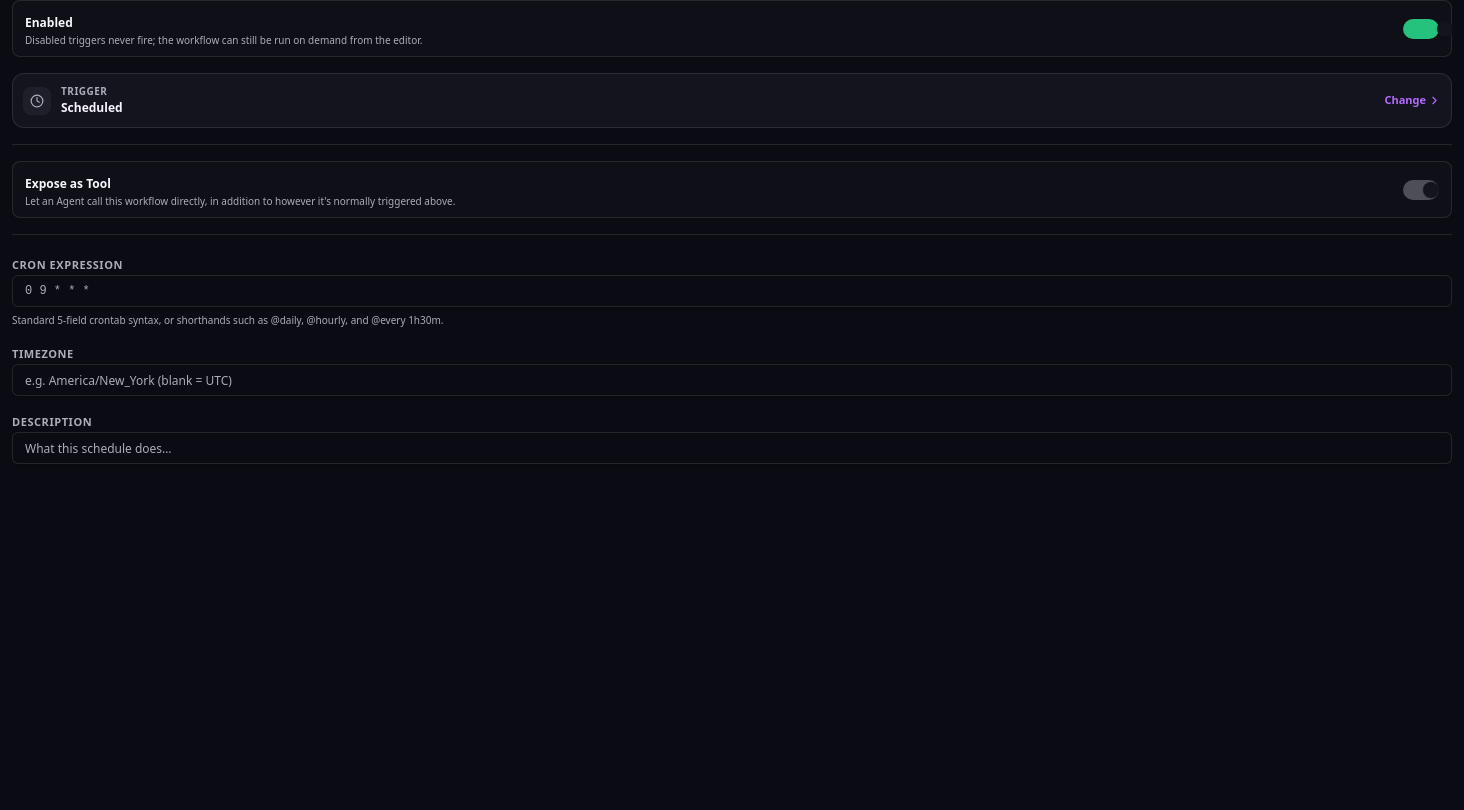
Test: TriggerForm — trigger type summary › cancelling out of the change view leaves the config untouched
Click the text "Change" at coordinates (1413, 101), box x1=1384 y1=92 x2=1441 y2=109
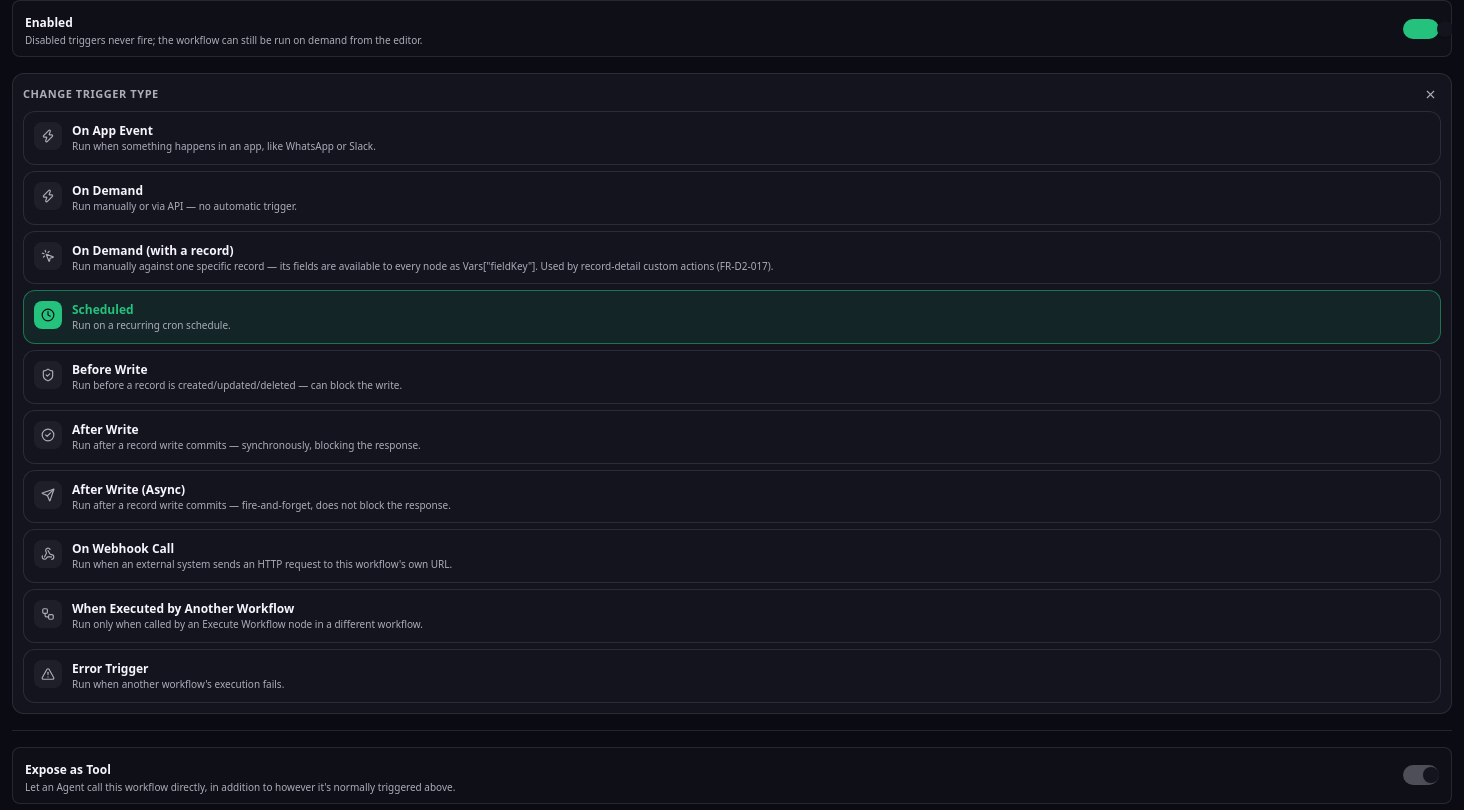
Click the button titled "Cancel" at coordinates (1430, 94), box x1=1420 y1=84 x2=1441 y2=105
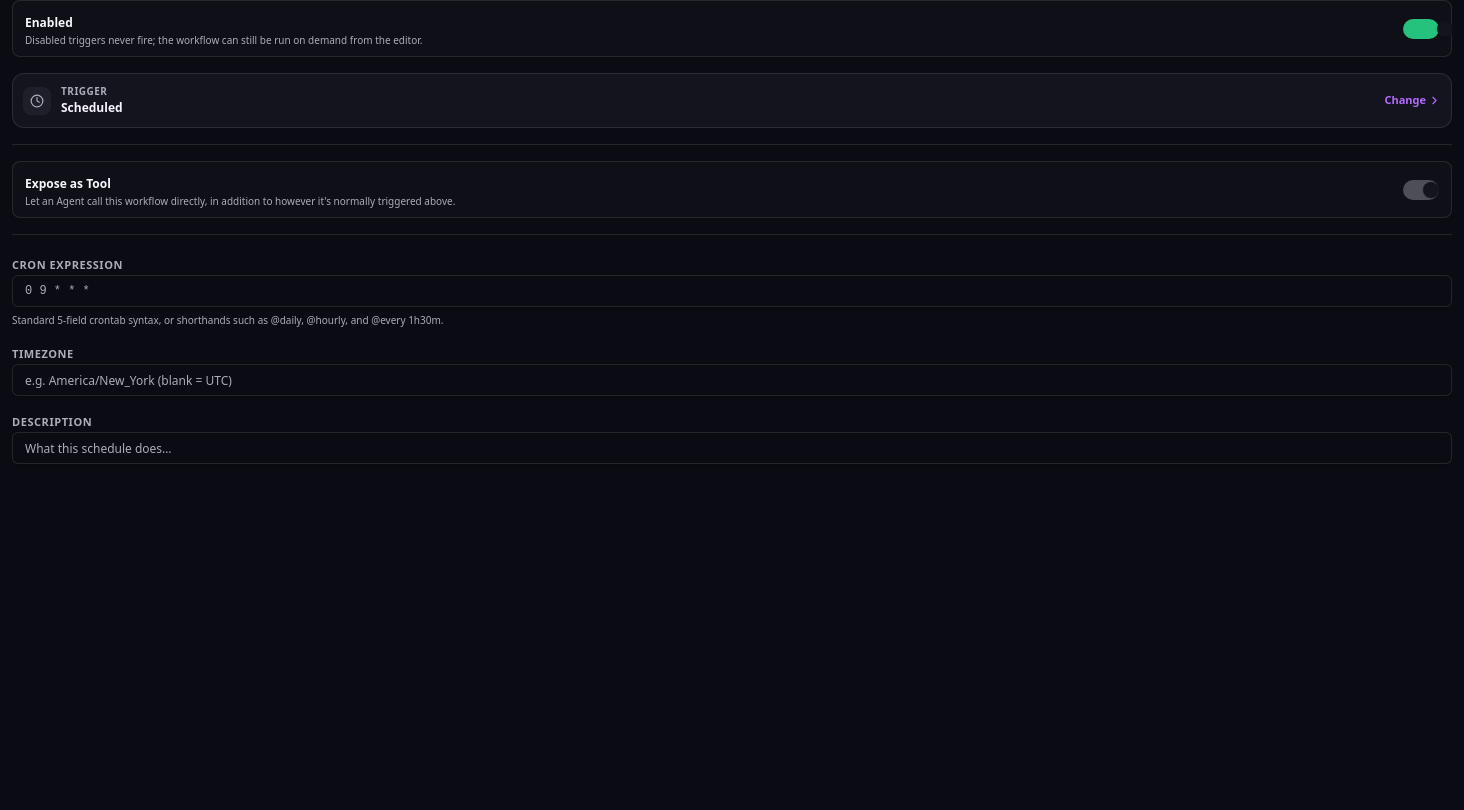
Expected: the text "Scheduled" is shown, x1=61 y1=99 x2=123 y2=116
Expected: the button "Error Trigger" is gone
